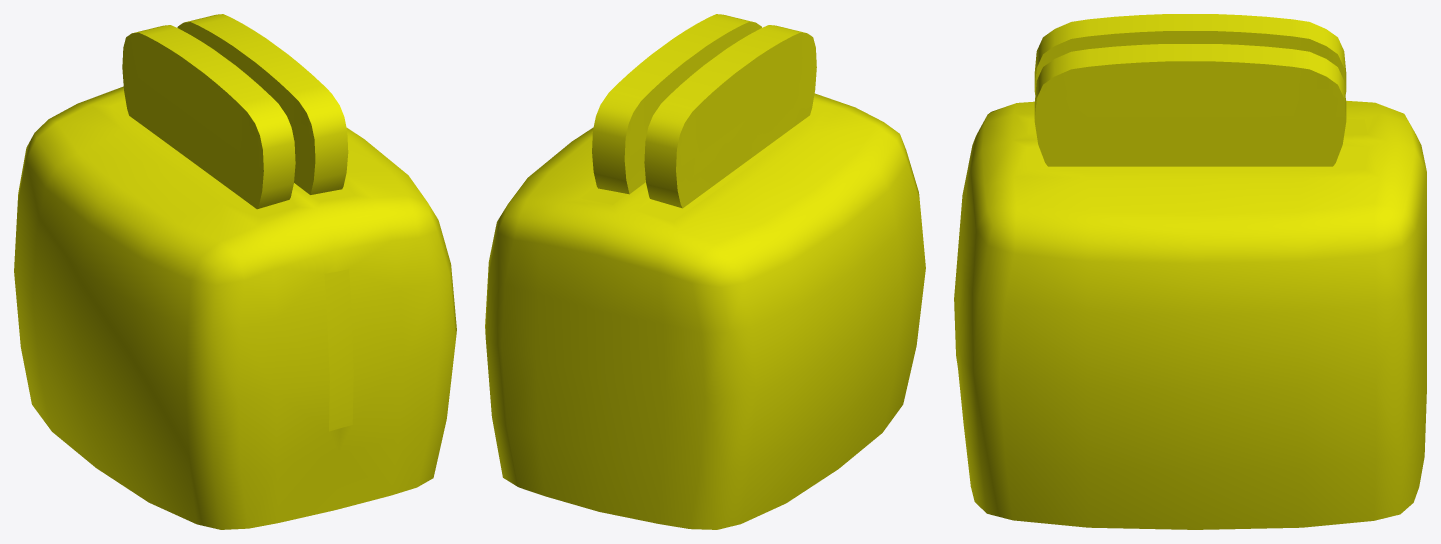
File: FancyToaster.fbx
3 views of the same model, side by side, from view 1: azimuth 30°, elevation 25°; view 2: azimuth 150°, elevation 25°; view 3: azimuth 270°, elevation 25° (orthographic). The views are drawn at different scales.
Parts seen in each view (by area): view 1: toaster_obj_Outline4; view 2: toaster_obj_Outline4; view 3: toaster_obj_Outline4.
Part boxes in pixels (x1,y1,x2,y2): toaster_obj_Outline4: [14, 14, 456, 529]; toaster_obj_Outline4: [485, 14, 925, 529]; toaster_obj_Outline4: [954, 14, 1426, 529].
Bounding box in the file's own units: 147 × 173 × 175.
